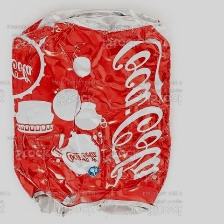can: (6, 5, 176, 219)
